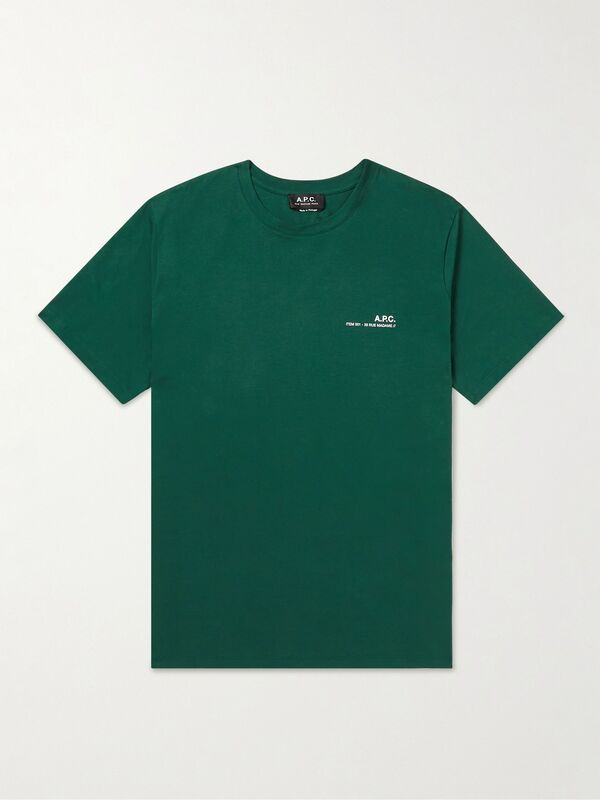tshirt: (32, 151, 563, 675)
